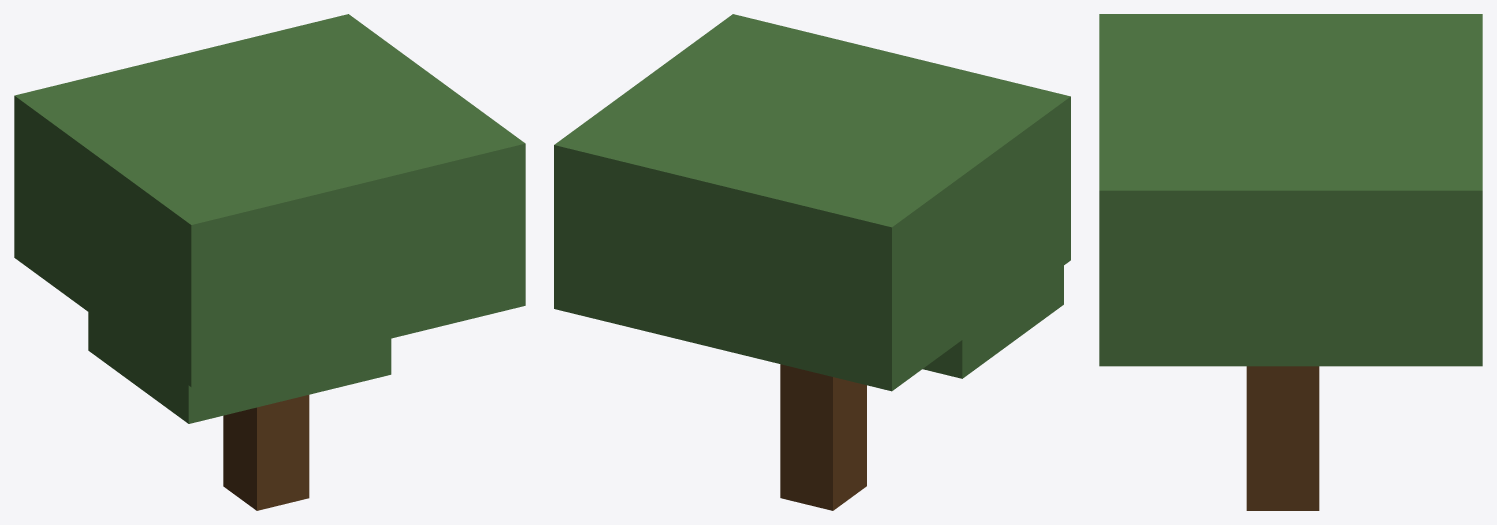
Rendered from trees3.gltf.
3 renders of one model, left to right at view 1: azimuth 30°, elevation 25°; view 2: azimuth 150°, elevation 25°; view 3: azimuth 270°, elevation 25°, orthographic. The views are drawn at different scales.
Visible parts, largest first — view 1: Cube.004; view 2: Cube.004; view 3: Cube.004.
Boxes of the visible parts, box(x1,y1,x2,y2) form: Cube.004: box(14, 14, 525, 510); Cube.004: box(554, 14, 1070, 510); Cube.004: box(1099, 14, 1482, 510).
Size of the model in its own units: 0.3372 by 0.355 by 0.3093.
